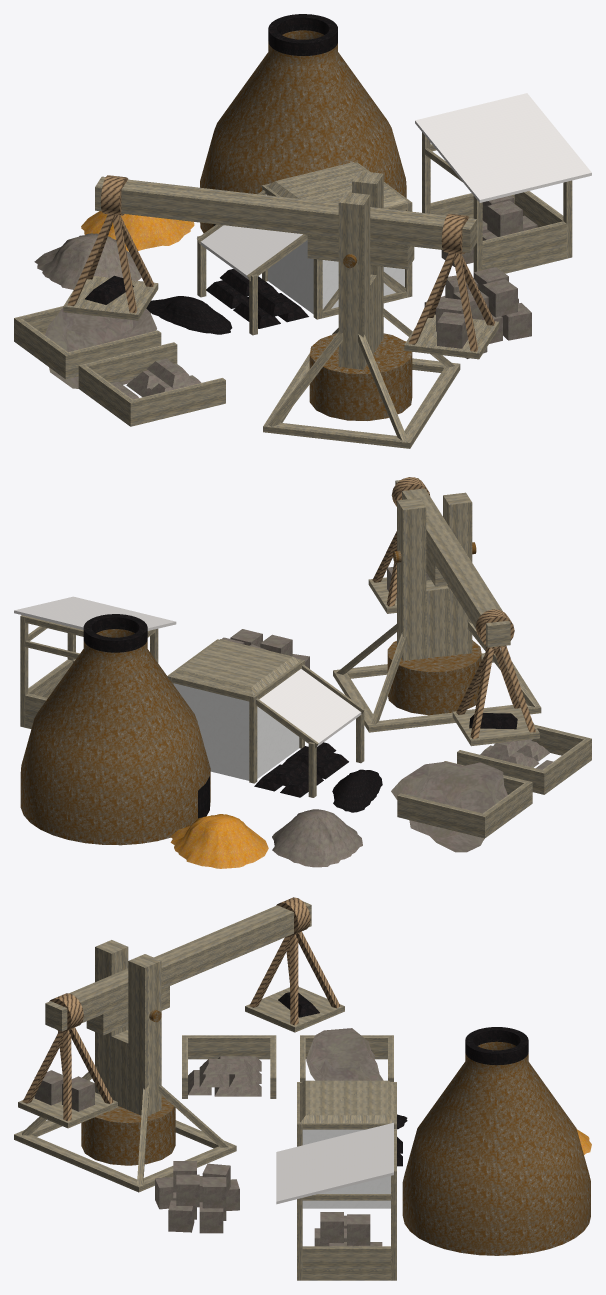
The model's file is mining-camp-import-me.glb.
The picture shows the model from 3 angles, top to bottom: view 1: azimuth 30°, elevation 25°; view 2: azimuth 150°, elevation 25°; view 3: azimuth 270°, elevation 25°; orthographic projection. The views are drawn at different scales.
Parts seen in each view (by area): view 1: smelter_chimney, arm_upper, base, shoulder, rock_pile, wood_half_wall, stucco_walls, pile_of_gravel, small_awning, roof, wood_wall_1, canvas_awning (+41 smaller); view 2: smelter_chimney, stucco_walls, rock_pile, base, arm_upper, shoulder_1, roof, small_awning, pile_of_gold, pile_of_gravel, shoulder, wood_wall__2_ (+26 smaller); view 3: smelter_chimney, arm_upper, shoulder_1, base, roof, rock_pile, wood_half_wall__2_, stucco_walls, shoulder, wood_wall__1__1, palette, baseframe__1_ (+35 smaller).
Boxes of the visible parts, left/top/right/bottom form: smelter_chimney: left=200, top=14, right=406, bottom=233; arm_upper: left=95, top=176, right=476, bottom=252; base: left=309, top=333, right=412, bottom=420; shoulder: left=338, top=192, right=370, bottom=369; rock_pile: left=45, top=308, right=156, bottom=388; wood_half_wall: left=482, top=221, right=566, bottom=273; stucco_walls: left=268, top=240, right=404, bottom=314; pile_of_gravel: left=34, top=233, right=141, bottom=289; small_awning: left=200, top=194, right=302, bottom=279; roof: left=267, top=162, right=407, bottom=207; wood_wall_1: left=130, top=378, right=225, bottom=426; canvas_awning: left=415, top=115, right=502, bottom=202; smelter_chimney: left=20, top=614, right=210, bottom=845; stucco_walls: left=173, top=683, right=299, bottom=780; rock_pile: left=391, top=761, right=507, bottom=852; base: left=387, top=640, right=481, bottom=715; arm_upper: left=395, top=478, right=510, bottom=647; shoulder_1: left=397, top=498, right=426, bottom=660; roof: left=171, top=639, right=300, bottom=695; small_awning: left=259, top=669, right=361, bottom=746; pile_of_gold: left=170, top=814, right=268, bottom=868; pile_of_gravel: left=272, top=809, right=362, bottom=867; shoulder: left=443, top=492, right=472, bottom=655; wood_wall__2_: left=397, top=793, right=484, bottom=838; smelter_chimney: left=402, top=1027, right=590, bottom=1255; arm_upper: left=45, top=901, right=311, bottom=1031; shoulder_1: left=128, top=954, right=161, bottom=1115; base: left=81, top=1095, right=175, bottom=1165; roof: left=300, top=1080, right=393, bottom=1123; rock_pile: left=306, top=1028, right=383, bottom=1080; wood_half_wall__2_: left=302, top=1246, right=390, bottom=1280; stucco_walls: left=302, top=1129, right=390, bottom=1208; shoulder: left=95, top=940, right=128, bottom=1096; wood_wall__1__1: left=182, top=1035, right=275, bottom=1059; palette: left=245, top=987, right=344, bottom=1032; baseframe__1_: left=14, top=1131, right=147, bottom=1192.
Size of the model in its own units: 23.11 by 10.72 by 24.55.
9 materials, 9 textured.
